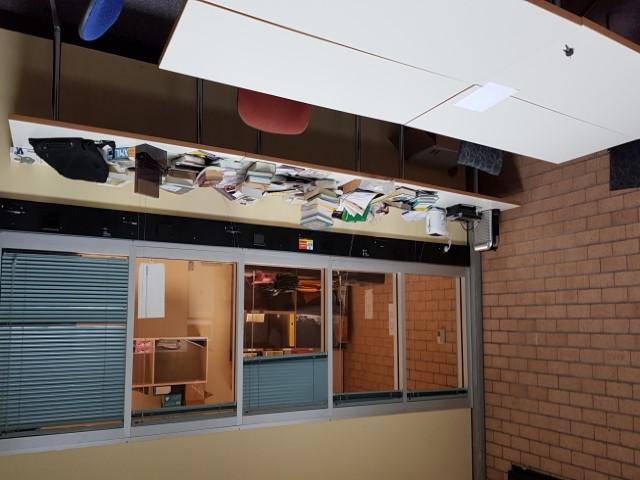key: (560, 41, 576, 57)
